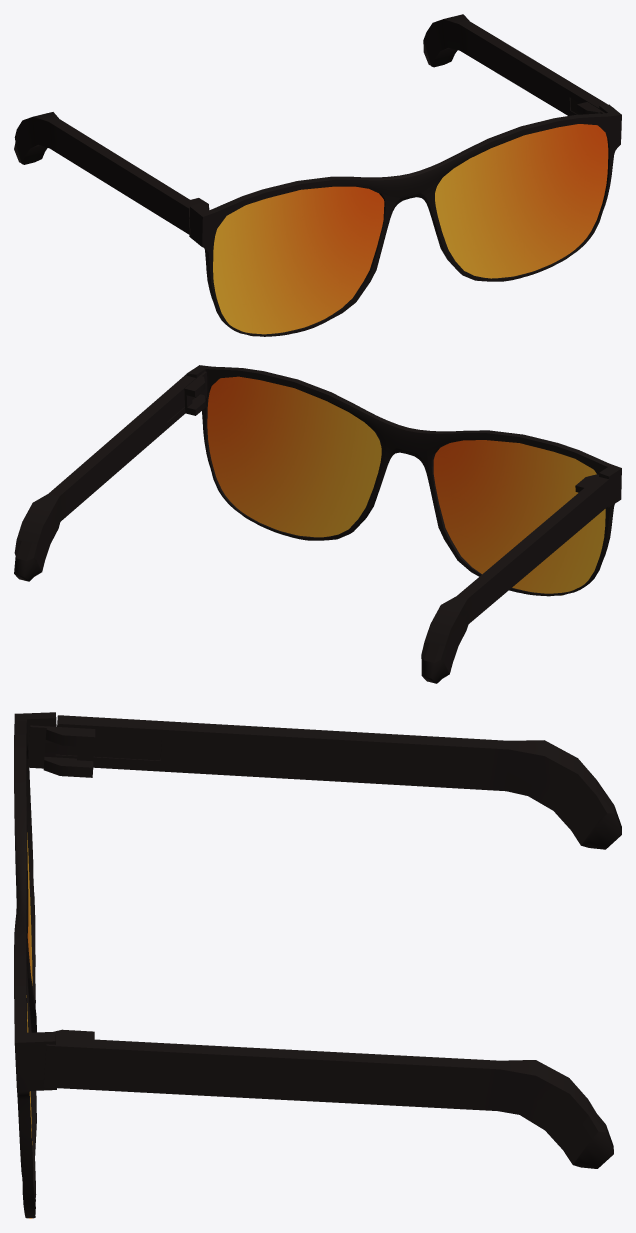
The model's file is glass.glb.
3 views of the same model, one above another, from view 1: azimuth 30°, elevation 25°; view 2: azimuth 150°, elevation 25°; view 3: azimuth 270°, elevation 25° (orthographic). The views are drawn at different scales.
Visible parts, largest first — view 1: spec1; view 2: spec1; view 3: spec1.
Part boxes in pixels (<box>): spec1: <box>14,14,621,336</box>; spec1: <box>14,365,621,683</box>; spec1: <box>14,712,621,1218</box>.
Size of the model in its own units: 0.1634 by 0.0555 by 0.1249.
Materials: 2 (1 with a texture image).
